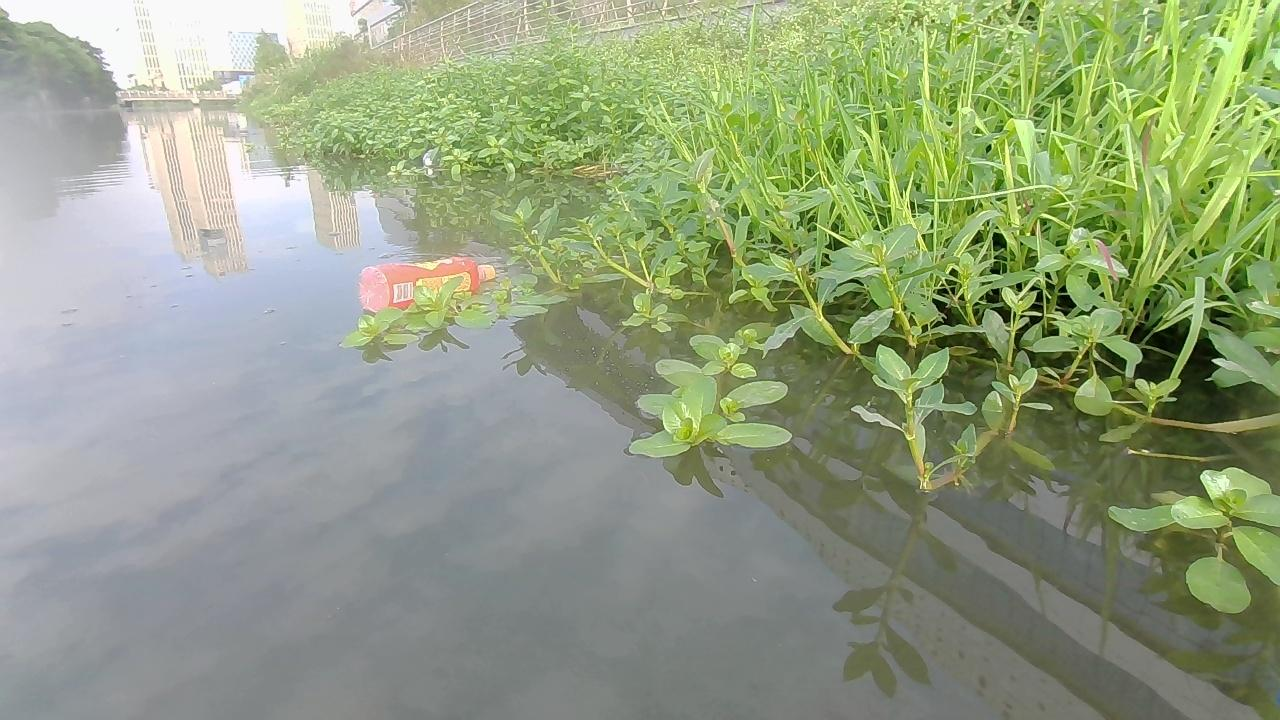bottle: (362, 252, 498, 313), (420, 151, 435, 172)
